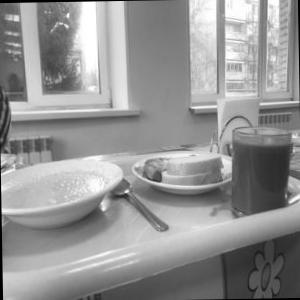bread: (158, 146, 227, 197)
coffee: (225, 118, 292, 224)
porridge: (4, 152, 116, 224)
